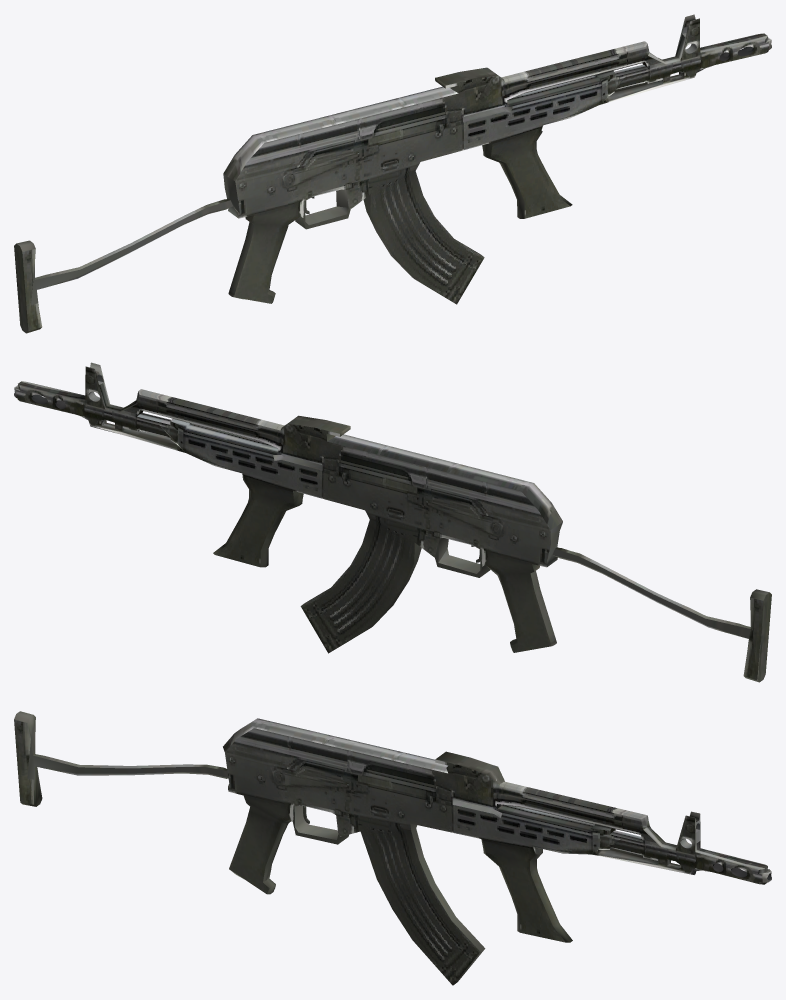
File: amd65.FBX
3 views of the same model, one above another, from view 1: azimuth 30°, elevation 25°; view 2: azimuth 150°, elevation 25°; view 3: azimuth 330°, elevation 25° (orthographic).
Parts seen in each view (by area): view 1: amd65; view 2: amd65; view 3: amd65.
Boxes of the visible parts, box(x1,y1,x2,y2) form: amd65: box(14, 14, 771, 333); amd65: box(14, 362, 771, 682); amd65: box(14, 711, 771, 985).
Size of the model in its own units: 110 by 2.77 by 31.86.
Materials: 1 (1 with a texture image).
